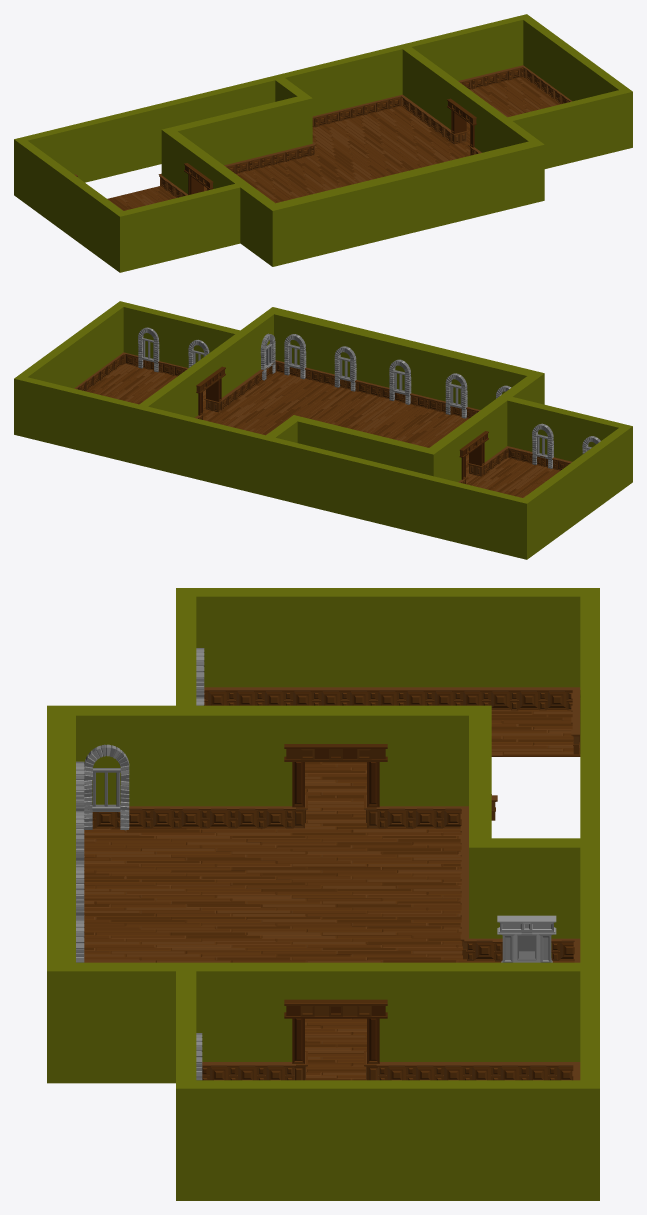
Rendered from castle_town_interior_floor_3.fbx.
The picture shows the model from 3 angles, top to bottom: view 1: azimuth 30°, elevation 25°; view 2: azimuth 150°, elevation 25°; view 3: azimuth 270°, elevation 25°; orthographic projection. The views are drawn at different scales.
Parts seen in each view (by area): view 1: floor3-wall.001, floor 1.001; view 2: floor3-wall.001, floor 1.001, CASTLE OBJECT.001; view 3: floor3-wall.001, floor 1.001, CASTLE OBJECT.001, fireplace.001.
Boxes of the visible parts, x1=… form: floor3-wall.001: x1=14, y1=14, x2=632, y2=272; floor 1.001: x1=107, y1=77, x2=560, y2=210; floor3-wall.001: x1=14, y1=301, x2=632, y2=559; floor 1.001: x1=86, y1=363, x2=560, y2=497; CASTLE OBJECT.001: x1=138, y1=327, x2=600, y2=468; floor3-wall.001: x1=47, y1=588, x2=599, y2=1200; floor 1.001: x1=84, y1=709, x2=580, y2=1080; CASTLE OBJECT.001: x1=76, y1=648, x2=204, y2=1080; fireplace.001: x1=497, y1=915, x2=556, y2=962.
Bounding box in the file's own units: 15054 × 3457 × 32259.
